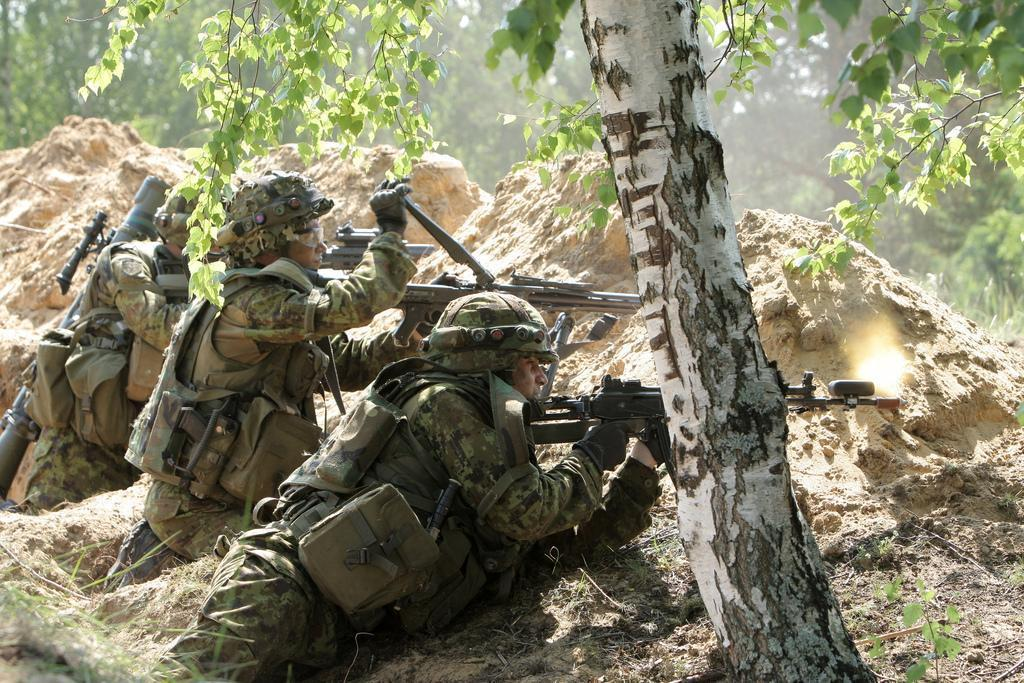Gun: (525, 369, 897, 487), (384, 198, 649, 350), (308, 225, 429, 269), (54, 209, 110, 299)
Knife: (425, 476, 459, 563)
Pistol: (179, 405, 237, 502)
